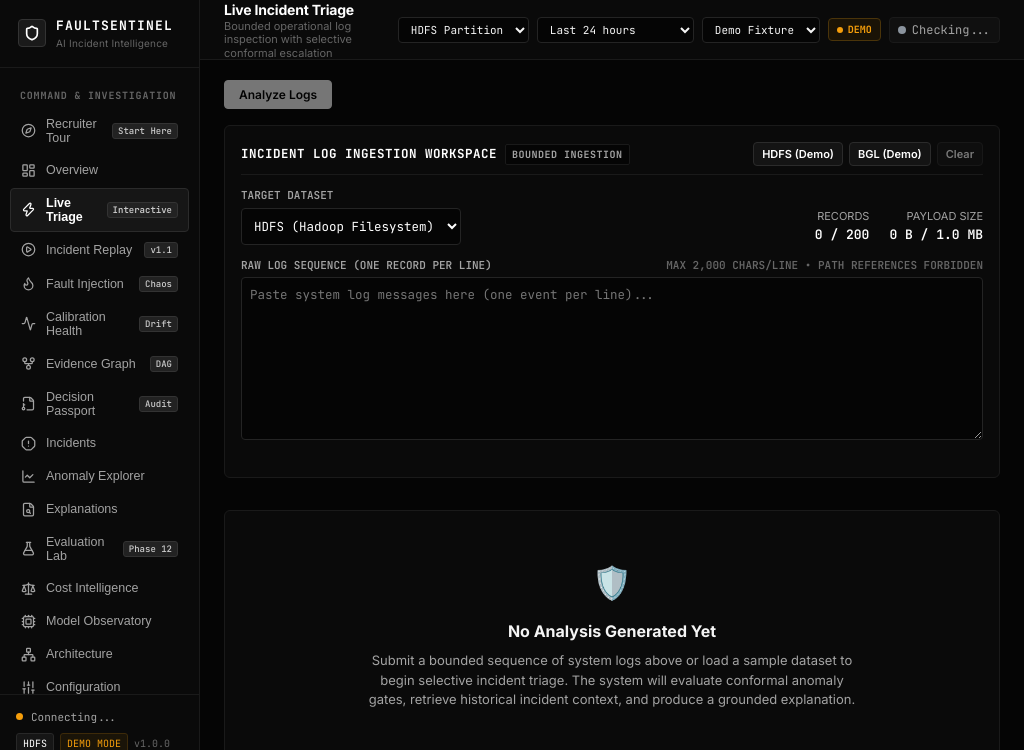
Test: FaultSentinel Operator Dashboard Integration Tests › handles backend 500/503 service errors gracefully without leaking tracebacks
In the text box with test id "logs-textarea": {"x": 612, "y": 358} [241,277,983,440], type "log line"
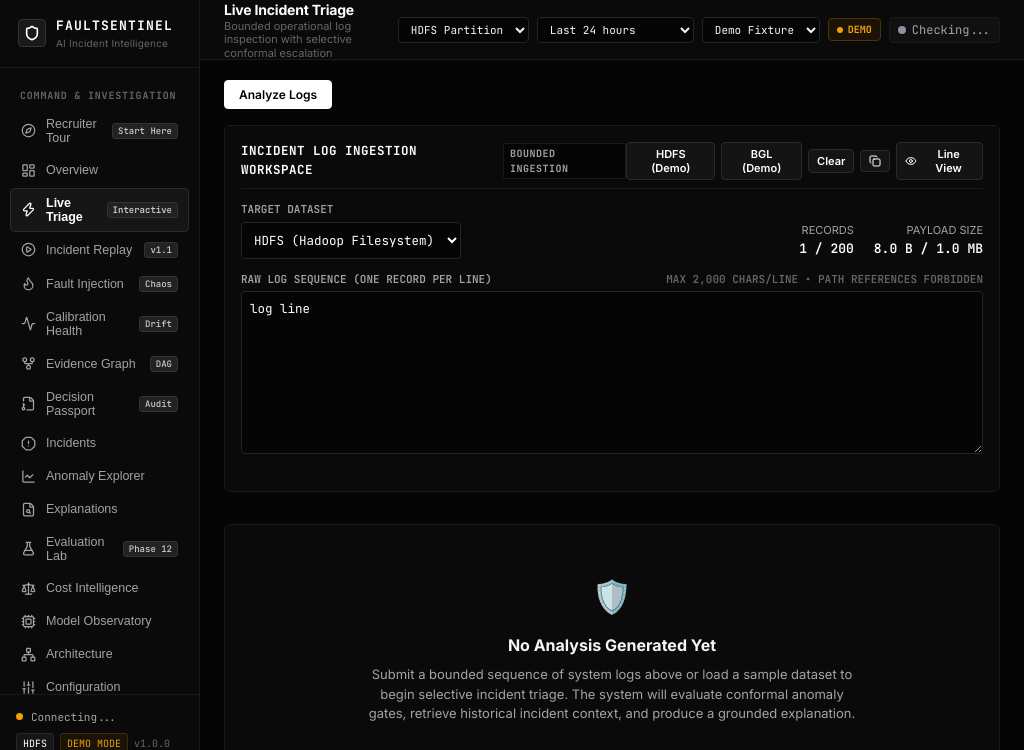
Click the button with test id "analyze-btn": {"x": 278, "y": 94} [224,80,332,109]
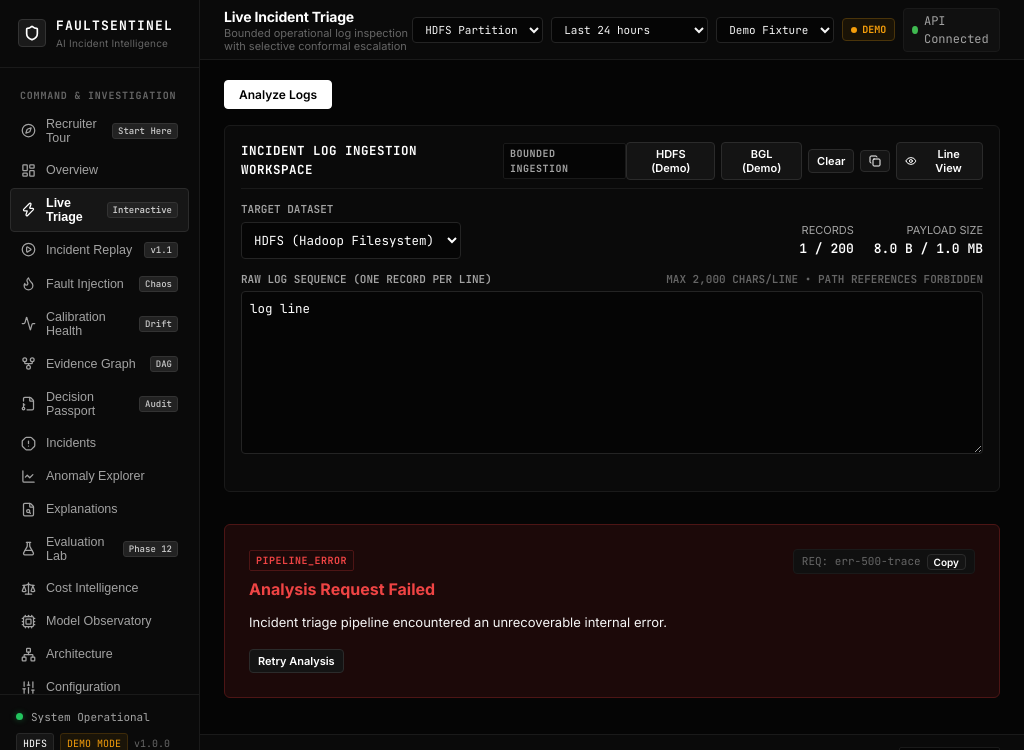
Now the message with test id "error-state" is shown, box [224,524,1000,698]
Now the text "Incident triage pipeline encountered an unrecoverable internal error." is shown, box [249,614,667,630]
